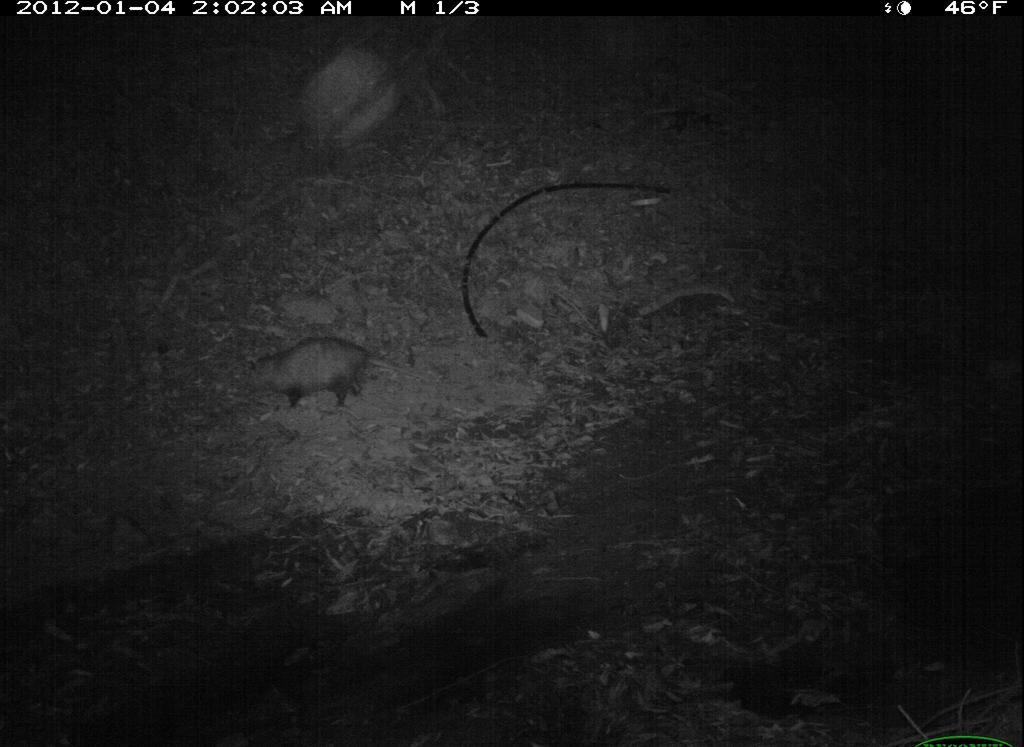opossum: (239, 335, 438, 418)
